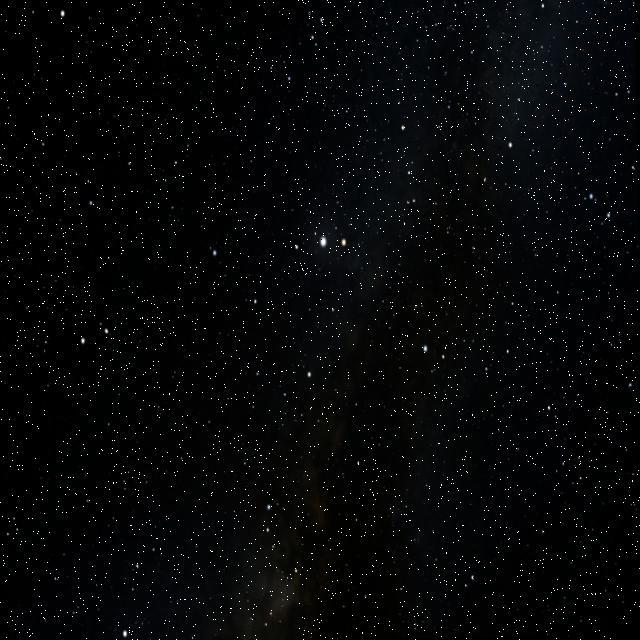Aquila: (199, 217, 455, 518)
